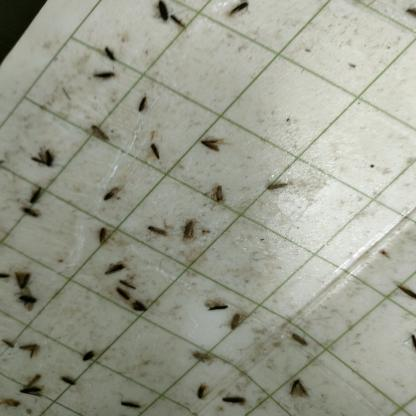prays_oleae: (177, 215, 202, 248), (287, 370, 310, 402), (191, 340, 217, 368), (206, 179, 228, 209), (147, 216, 170, 243), (16, 378, 43, 400), (290, 323, 307, 356), (19, 202, 47, 222), (92, 62, 115, 86), (92, 225, 115, 249), (149, 140, 166, 171), (198, 132, 221, 154), (227, 309, 248, 333), (31, 154, 54, 174), (194, 380, 214, 403), (227, 0, 252, 18), (92, 124, 110, 149), (18, 338, 40, 358), (13, 268, 33, 290), (119, 394, 140, 413), (100, 44, 121, 63), (222, 390, 244, 408), (206, 302, 228, 318), (60, 373, 79, 391), (102, 188, 124, 203), (267, 182, 289, 197), (13, 292, 40, 304), (135, 98, 150, 118), (117, 286, 132, 304), (170, 13, 184, 30), (105, 263, 126, 274)
